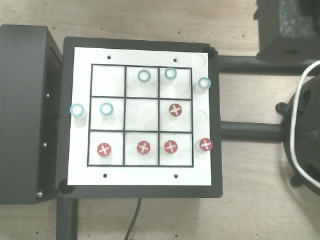blue circle: (70, 104, 84, 117), (198, 77, 212, 89), (100, 103, 113, 115), (138, 70, 150, 81), (165, 68, 176, 79)
board: (67, 46, 213, 186)
cells: (89, 132, 122, 164), (125, 133, 157, 164), (125, 99, 157, 130), (92, 65, 124, 96), (91, 98, 123, 129), (160, 134, 191, 165), (160, 100, 191, 131), (160, 68, 191, 98), (127, 67, 157, 97)
grid: (87, 64, 193, 167)
red cross: (97, 143, 111, 156), (137, 140, 150, 154), (164, 140, 177, 153), (199, 138, 212, 150), (169, 104, 181, 116)
